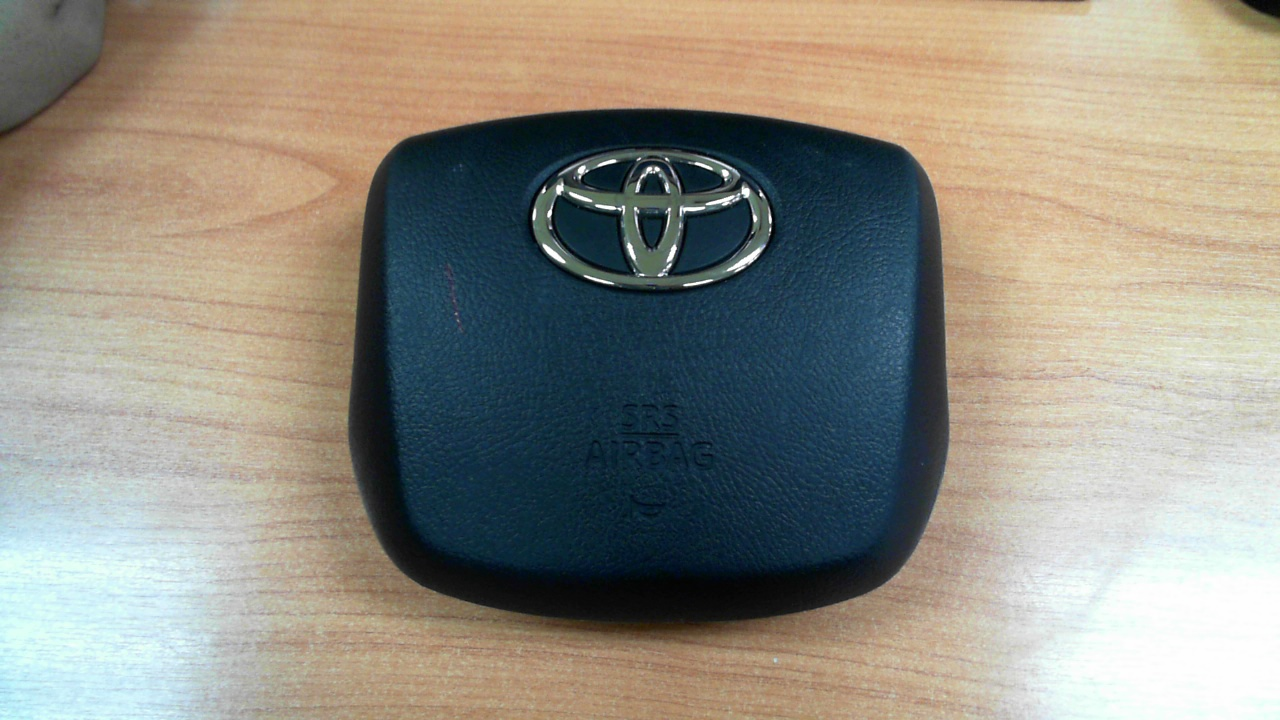Airbag: (344, 106, 948, 620)
Toyota: (531, 148, 773, 288)
